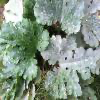Squash Powdery mildew leaf: (39, 35, 98, 100), (33, 0, 85, 33), (80, 0, 99, 48)
